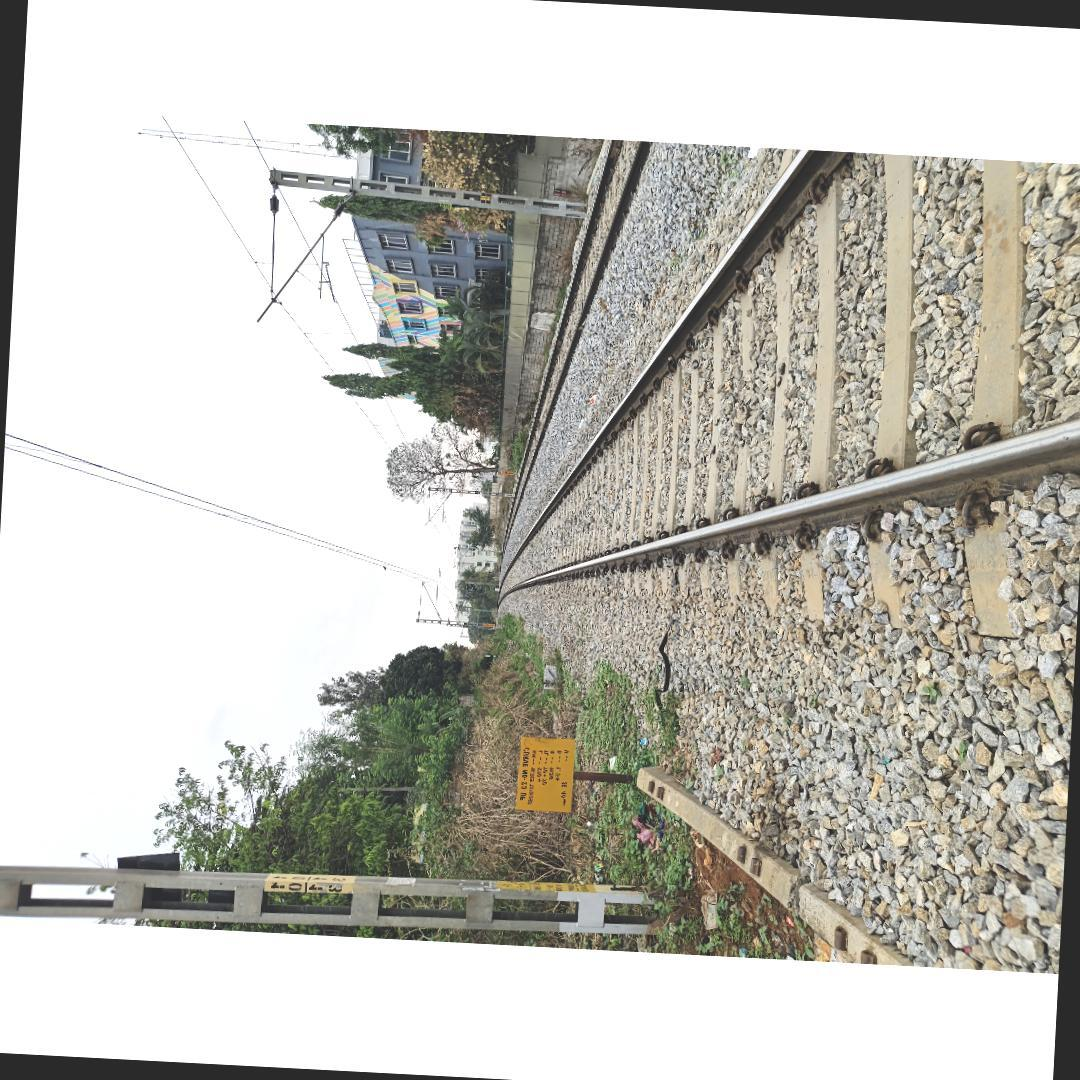track: (494, 151, 1080, 623)
